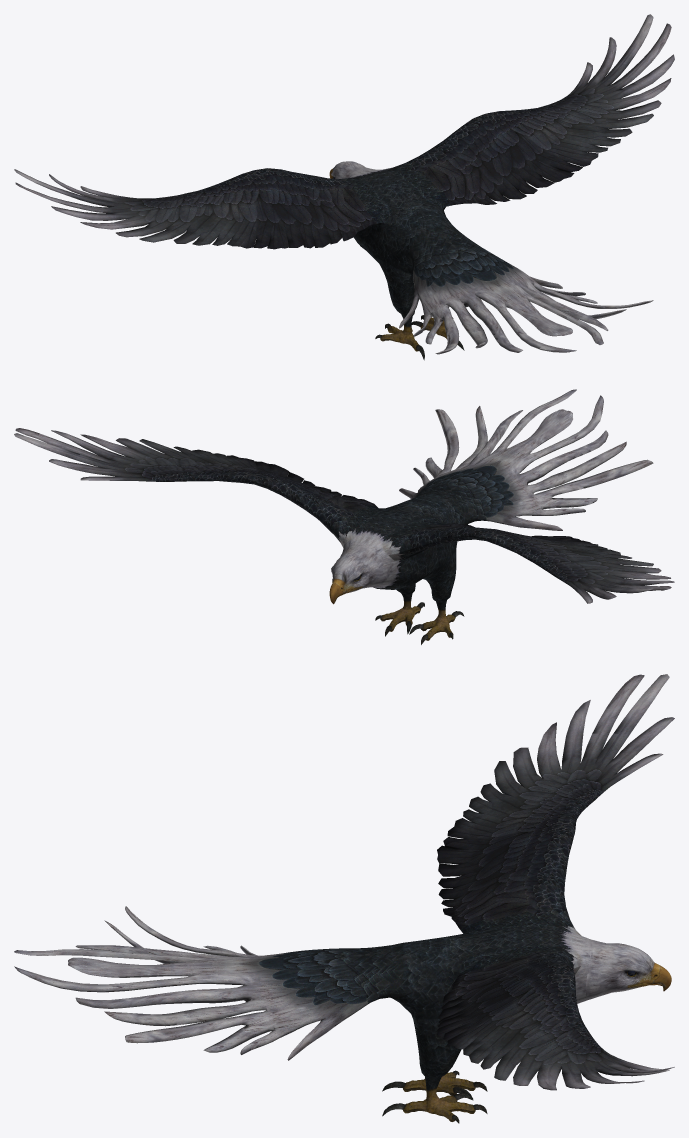
The model's file is eagle.glb.
3 renders of one model, top to bottom at view 1: azimuth 30°, elevation 25°; view 2: azimuth 150°, elevation 25°; view 3: azimuth 270°, elevation 25°, orthographic. The views are drawn at different scales.
Visible parts, largest first — view 1: Mesh_0041_Tex_0039_0.dds_0, Mesh_0042_Tex_0042_0.dds_0, Mesh_0038_Tex_0038_0.dds_0; view 2: Mesh_0041_Tex_0039_0.dds_0, Mesh_0042_Tex_0042_0.dds_0, Mesh_0038_Tex_0038_0.dds_0, Mesh_0037_Tex_0034_0.dds_0; view 3: Mesh_0041_Tex_0039_0.dds_0, Mesh_0042_Tex_0042_0.dds_0, Mesh_0038_Tex_0038_0.dds_0, Mesh_0037_Tex_0034_0.dds_0.
Part boxes in pixels (bbox=[...]): Mesh_0041_Tex_0039_0.dds_0: bbox=[14, 14, 674, 249]; Mesh_0042_Tex_0042_0.dds_0: bbox=[399, 225, 653, 354]; Mesh_0038_Tex_0038_0.dds_0: bbox=[349, 168, 464, 360]; Mesh_0041_Tex_0039_0.dds_0: bbox=[14, 428, 674, 603]; Mesh_0042_Tex_0042_0.dds_0: bbox=[399, 389, 653, 530]; Mesh_0038_Tex_0038_0.dds_0: bbox=[342, 494, 465, 644]; Mesh_0037_Tex_0034_0.dds_0: bbox=[329, 544, 387, 604]; Mesh_0041_Tex_0039_0.dds_0: bbox=[437, 674, 674, 1090]; Mesh_0042_Tex_0042_0.dds_0: bbox=[14, 906, 403, 1060]; Mesh_0038_Tex_0038_0.dds_0: bbox=[382, 927, 590, 1123]; Mesh_0037_Tex_0034_0.dds_0: bbox=[586, 939, 671, 1000].
Size of the model in its own units: 183 by 48.71 by 126.
Materials: 6 (6 with a texture image).
